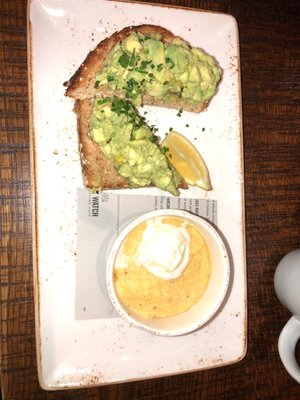sushi: (99, 205, 233, 336)
